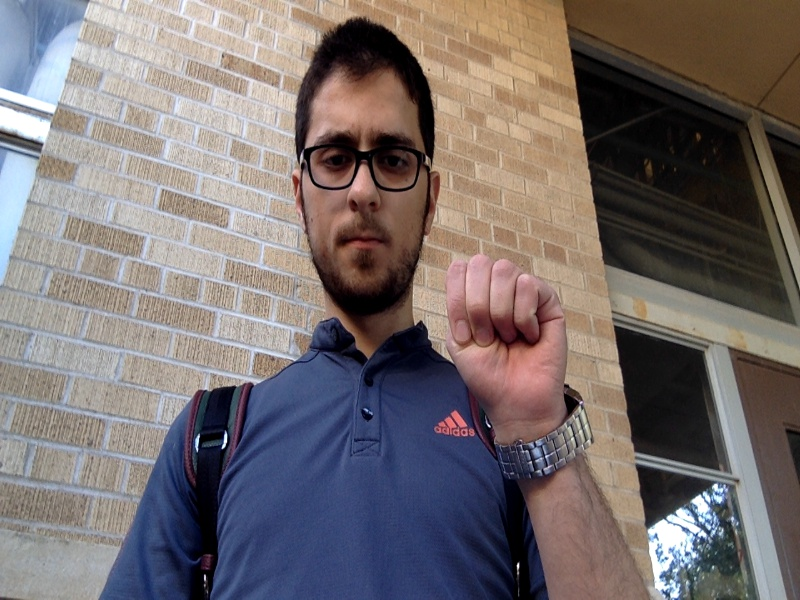0-hand: (447, 253, 568, 421)
